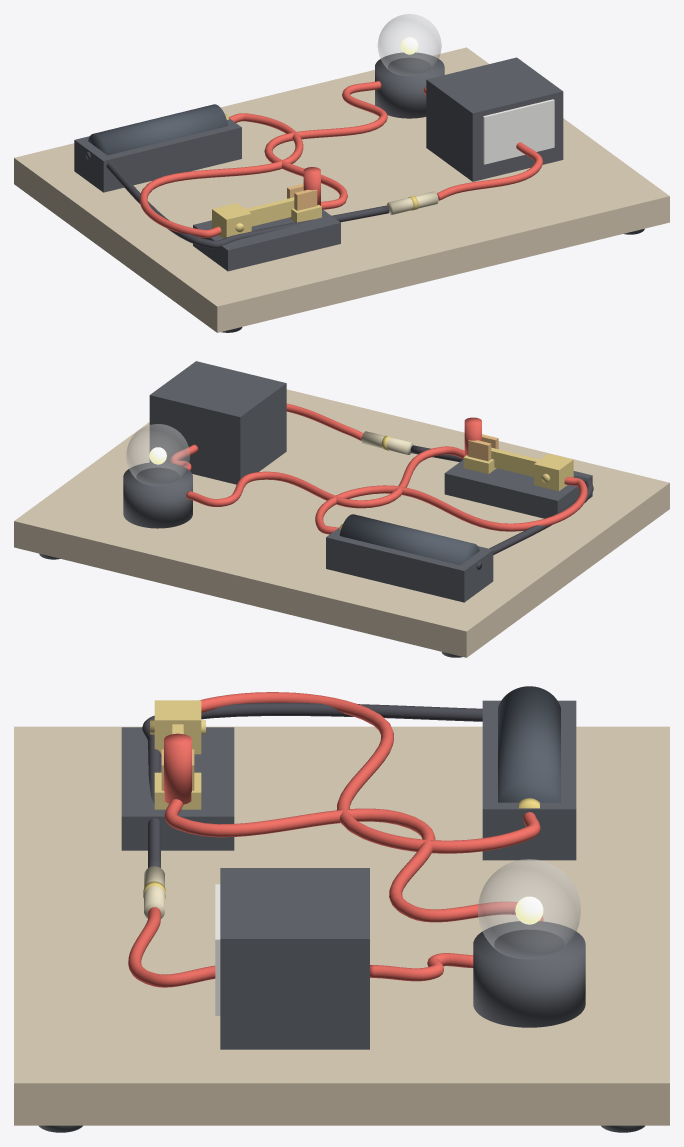
File: full-circuit.glb
3 renders of one model, top to bottom at view 1: azimuth 30°, elevation 25°; view 2: azimuth 150°, elevation 25°; view 3: azimuth 270°, elevation 25°, orthographic. The views are drawn at different scales.
Visible parts, largest first — view 1: full-circuit-board, full-circuit-ammeter-case, full-circuit-batt-holder, full-circuit-switch-base, full-circuit-socket, full-circuit-ammeter-dial, full-circuit-battery, full-circuit-bulb-globe, full-circuit-wire-battery-to-switch, full-circuit-wire-switch-to-bulb, full-circuit-wire-resistor-to-battery, full-circuit-wire-ammeter-to-resistor (+3 smaller); view 2: full-circuit-board, full-circuit-ammeter-case, full-circuit-batt-holder, full-circuit-switch-base, full-circuit-socket, full-circuit-battery, full-circuit-bulb-globe, full-circuit-wire-battery-to-switch, full-circuit-wire-switch-to-bulb, full-circuit-switch-hinge, full-circuit-wire-resistor-to-battery, full-circuit-switch-blade (+3 smaller); view 3: full-circuit-board, full-circuit-ammeter-case, full-circuit-socket, full-circuit-switch-base, full-circuit-bulb-globe, full-circuit-batt-holder, full-circuit-battery, full-circuit-wire-switch-to-bulb, full-circuit-wire-battery-to-switch, full-circuit-wire-resistor-to-battery, full-circuit-wire-ammeter-to-resistor, full-circuit-switch-hinge (+5 smaller).
Boxes of the visible parts, box(x1,y1,x2,y2) form: full-circuit-board: box(14, 47, 669, 332); full-circuit-ammeter-case: box(426, 57, 563, 181); full-circuit-batt-holder: box(74, 118, 241, 192); full-circuit-switch-base: box(193, 210, 340, 271); full-circuit-socket: box(375, 52, 444, 118); full-circuit-ammeter-dial: box(483, 99, 554, 164); full-circuit-battery: box(88, 104, 228, 155); full-circuit-bulb-globe: box(377, 14, 441, 75); full-circuit-wire-battery-to-switch: box(139, 113, 303, 237); full-circuit-wire-switch-to-bulb: box(264, 81, 387, 209); full-circuit-wire-resistor-to-battery: box(85, 152, 389, 248); full-circuit-wire-ammeter-to-resistor: box(437, 142, 542, 200); full-circuit-board: box(14, 389, 669, 657); full-circuit-ammeter-case: box(149, 361, 286, 484); full-circuit-batt-holder: box(326, 528, 493, 602); full-circuit-switch-base: box(444, 459, 592, 518); full-circuit-socket: box(123, 462, 192, 528); full-circuit-battery: box(339, 514, 479, 565); full-circuit-bulb-globe: box(126, 424, 189, 485); full-circuit-wire-battery-to-switch: box(315, 476, 587, 534); full-circuit-wire-switch-to-bulb: box(186, 446, 464, 508); full-circuit-switch-hinge: box(534, 453, 573, 491); full-circuit-wire-resistor-to-battery: box(410, 445, 593, 569); full-circuit-switch-blade: box(491, 447, 539, 476); full-circuit-board: box(14, 726, 669, 1125); full-circuit-ammeter-case: box(220, 868, 369, 1049); full-circuit-socket: box(473, 921, 585, 1027); full-circuit-switch-base: box(121, 727, 234, 850); full-circuit-bulb-globe: box(478, 859, 580, 958); full-circuit-batt-holder: box(482, 700, 576, 860); full-circuit-battery: box(498, 686, 560, 802); full-circuit-wire-switch-to-bulb: box(164, 799, 543, 922); full-circuit-wire-battery-to-switch: box(200, 692, 540, 853); full-circuit-wire-resistor-to-battery: box(142, 703, 482, 867); full-circuit-wire-ammeter-to-resistor: box(128, 907, 215, 987); full-circuit-switch-hinge: box(154, 700, 201, 754).
Size of the model in its own units: 0.18 by 0.047 by 0.14.
